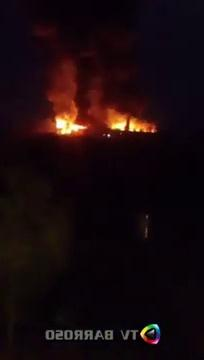fire: (109, 114, 150, 128), (55, 117, 83, 134)
